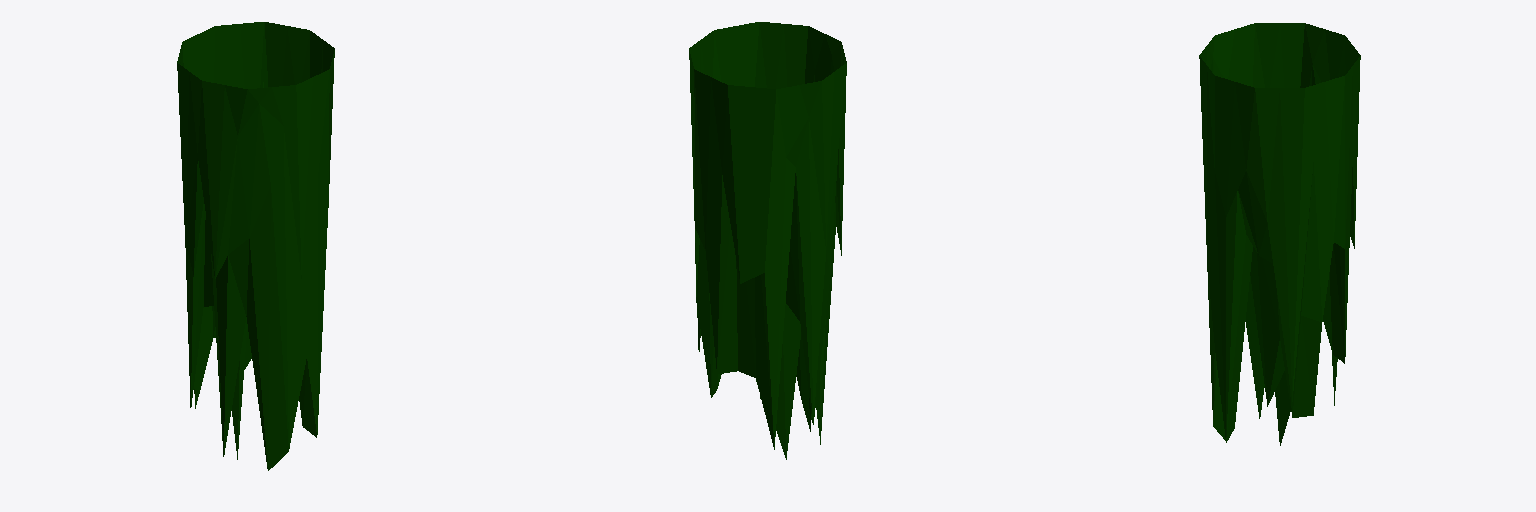
The model's file is roofmoss_1.obj.
3 renders of one model, left to right at view 1: azimuth 30°, elevation 25°; view 2: azimuth 150°, elevation 25°; view 3: azimuth 270°, elevation 25°, orthographic.
Parts seen in each view (by area): view 1: Icosphere.003; view 2: Icosphere.003; view 3: Icosphere.003.
Boxes of the visible parts, x1=… form: Icosphere.003: x1=177, y1=22, x2=334, y2=470; Icosphere.003: x1=689, y1=22, x2=846, y2=459; Icosphere.003: x1=1199, y1=23, x2=1360, y2=445.
Size of the model in its own units: 1.01 by 2.9 by 1.06.